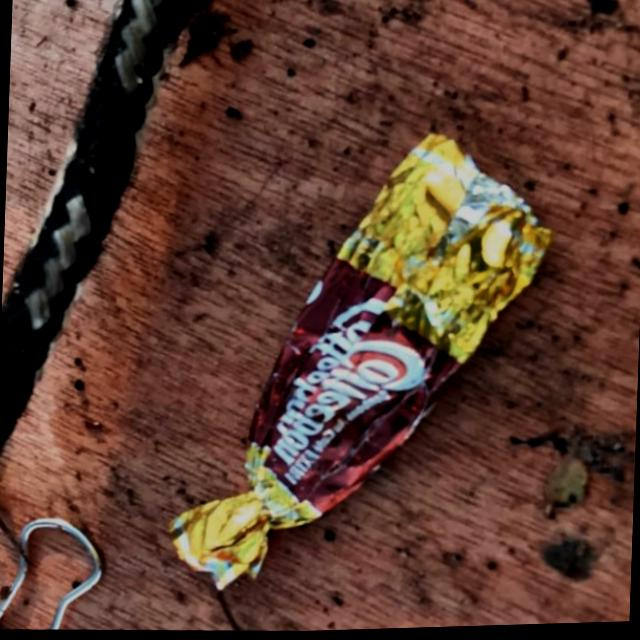Plastic: (160, 114, 564, 607)
